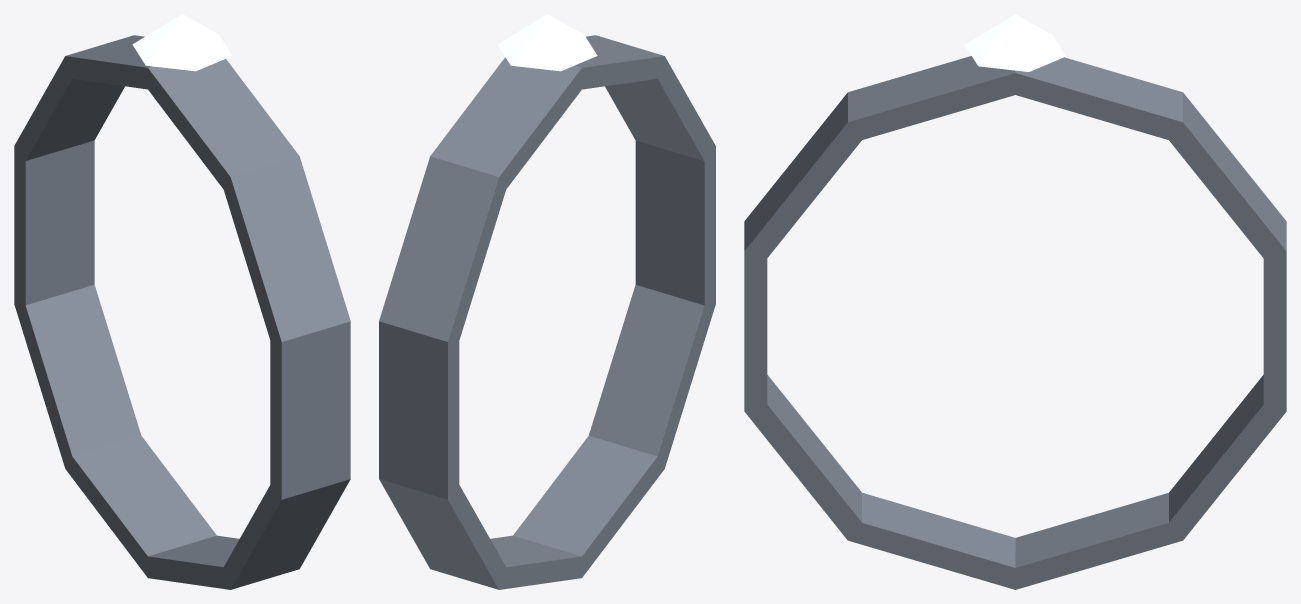
The model's file is armor_ring_rare_human.glb.
3 renders of one model, left to right at view 1: azimuth 30°, elevation 25°; view 2: azimuth 150°, elevation 25°; view 3: azimuth 270°, elevation 25°, orthographic.
Visible parts, largest first — view 1: armor_ring_rare_human__middle_01_r; view 2: armor_ring_rare_human__middle_01_r; view 3: armor_ring_rare_human__middle_01_r.
Boxes of the visible parts, box(x1,y1,x2,y2) form: armor_ring_rare_human__middle_01_r: box(14, 14, 350, 589); armor_ring_rare_human__middle_01_r: box(379, 14, 715, 589); armor_ring_rare_human__middle_01_r: box(744, 14, 1286, 589).
Size of the model in its own units: 2.51 by 15.35 by 13.41.
